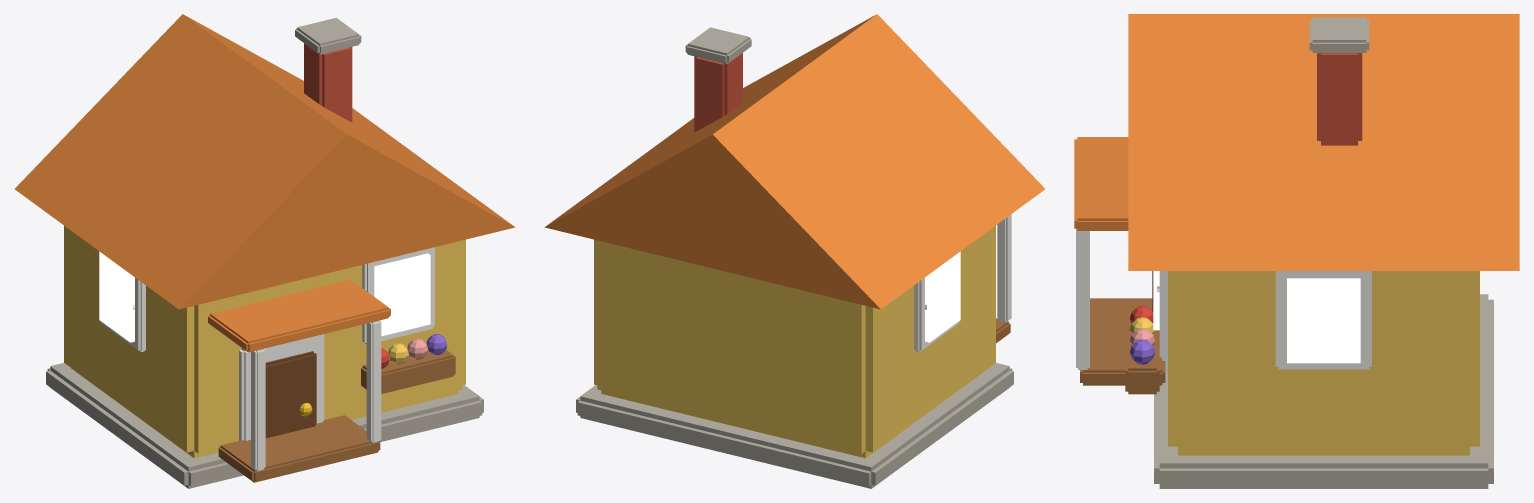
The model's file is cottage.glb.
3 renders of one model, left to right at view 1: azimuth 30°, elevation 25°; view 2: azimuth 150°, elevation 25°; view 3: azimuth 270°, elevation 25°, orthographic. The views are drawn at different scales.
Visible parts, largest first — view 1: cottage; view 2: cottage; view 3: cottage.
Boxes of the visible parts, x1,y1,x2,y2 form: cottage: (14,14,515,488); cottage: (544,14,1045,488); cottage: (1074,14,1519,488).
Size of the model in its own units: 1.63 by 1.62 by 1.57.
